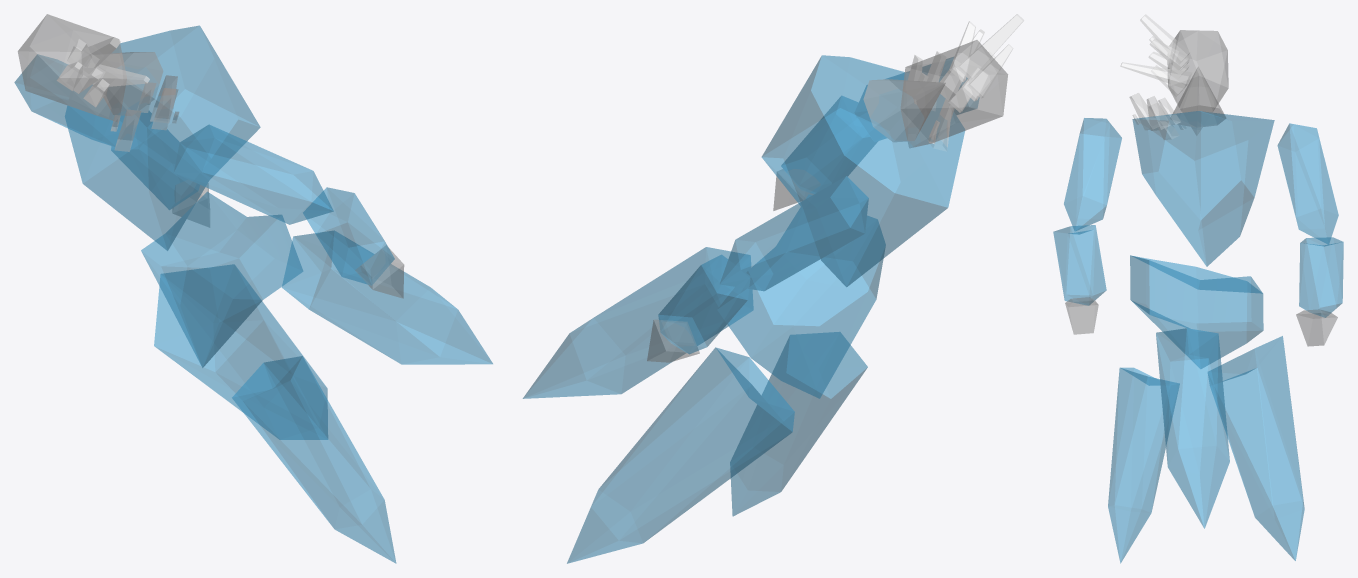
File: ghostChargingLunge21.obj
The picture shows the model from 3 angles, left to right: view 1: azimuth 30°, elevation 25°; view 2: azimuth 150°, elevation 25°; view 3: azimuth 270°, elevation 25°; orthographic projection. The views are drawn at different scales.
Parts seen in each view (by area): view 1: Cube.001_Cube.006, Icosphere.017, Cube_Cube.006, Icosphere.016, Icosphere.015, Icosphere.005_Icosphere.005, Icosphere.003_Icosphere.006, Icosphere.006_Icosphere.005, Icosphere.007_Icosphere.005, Icosphere.008_Icosphere.005, Cone_Cone.006, Cube.002_Cube.006 (+5 smaller); view 2: Cube.001_Cube.006, Icosphere.017, Cube_Cube.006, Icosphere.016, Icosphere.015, Icosphere.007_Icosphere.005, Icosphere.003_Icosphere.006, Icosphere.008_Icosphere.005, Icosphere.006_Icosphere.005, Cone_Cone.006, Cube.003_Cube.006, Cube.009_Cube.005 (+4 smaller); view 3: Cube.001_Cube.006, Icosphere.017, Icosphere.016, Cube_Cube.006, Icosphere.015, Icosphere.007_Icosphere.005, Icosphere.003_Icosphere.006, Icosphere.005_Icosphere.005, Icosphere.006_Icosphere.005, Icosphere.008_Icosphere.005, Cone_Cone.006, Cube.003_Cube.006 (+6 smaller).
Boxes of the visible parts, <box> form: Cube.001_Cube.006: <box>65,25,260,250</box>; Icosphere.017: <box>154,264,327,439</box>; Cube_Cube.006: <box>141,191,303,367</box>; Icosphere.016: <box>282,231,492,364</box>; Icosphere.015: <box>232,356,396,563</box>; Icosphere.005_Icosphere.005: <box>174,124,333,224</box>; Icosphere.003_Icosphere.006: <box>18,14,126,120</box>; Icosphere.006_Icosphere.005: <box>303,187,394,285</box>; Icosphere.007_Icosphere.005: <box>14,54,124,146</box>; Icosphere.008_Icosphere.005: <box>111,111,199,209</box>; Cone_Cone.006: <box>100,52,163,115</box>; Cube.002_Cube.006: <box>355,245,404,298</box>; Cube.001_Cube.006: <box>761,55,964,286</box>; Icosphere.017: <box>567,347,794,563</box>; Cube_Cube.006: <box>717,195,885,398</box>; Icosphere.016: <box>523,247,753,398</box>; Icosphere.015: <box>730,332,867,516</box>; Icosphere.007_Icosphere.005: <box>720,176,868,291</box>; Icosphere.003_Icosphere.006: <box>900,40,1007,147</box>; Icosphere.008_Icosphere.005: <box>658,254,750,354</box>; Icosphere.006_Icosphere.005: <box>781,96,876,193</box>; Cone_Cone.006: <box>863,79,945,141</box>; Cube.003_Cube.006: <box>647,319,699,362</box>; Cube.009_Cube.005: <box>957,14,1023,79</box>; Cube.001_Cube.006: <box>1132,111,1274,266</box>; Icosphere.017: <box>1208,336,1304,560</box>; Icosphere.016: <box>1156,328,1229,528</box>; Cube_Cube.006: <box>1130,255,1263,368</box>; Icosphere.015: <box>1108,367,1179,563</box>; Icosphere.007_Icosphere.005: <box>1277,123,1338,244</box>; Icosphere.003_Icosphere.006: <box>1167,30,1228,135</box>; Icosphere.005_Icosphere.005: <box>1064,118,1121,230</box>; Icosphere.006_Icosphere.005: <box>1053,225,1106,305</box>; Icosphere.008_Icosphere.005: <box>1299,237,1343,317</box>; Cone_Cone.006: <box>1170,66,1225,126</box>; Cube.003_Cube.006: <box>1296,309,1337,346</box>.
Bounding box in the file's own units: 35.08 × 41.51 × 24.86.
